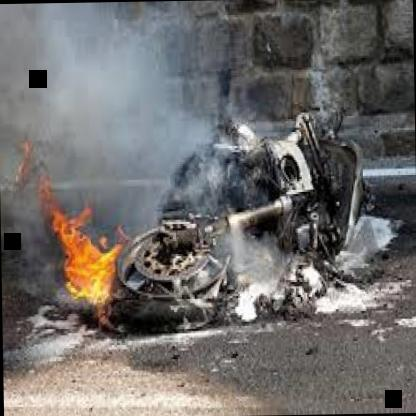fire: (10, 105, 294, 366)
